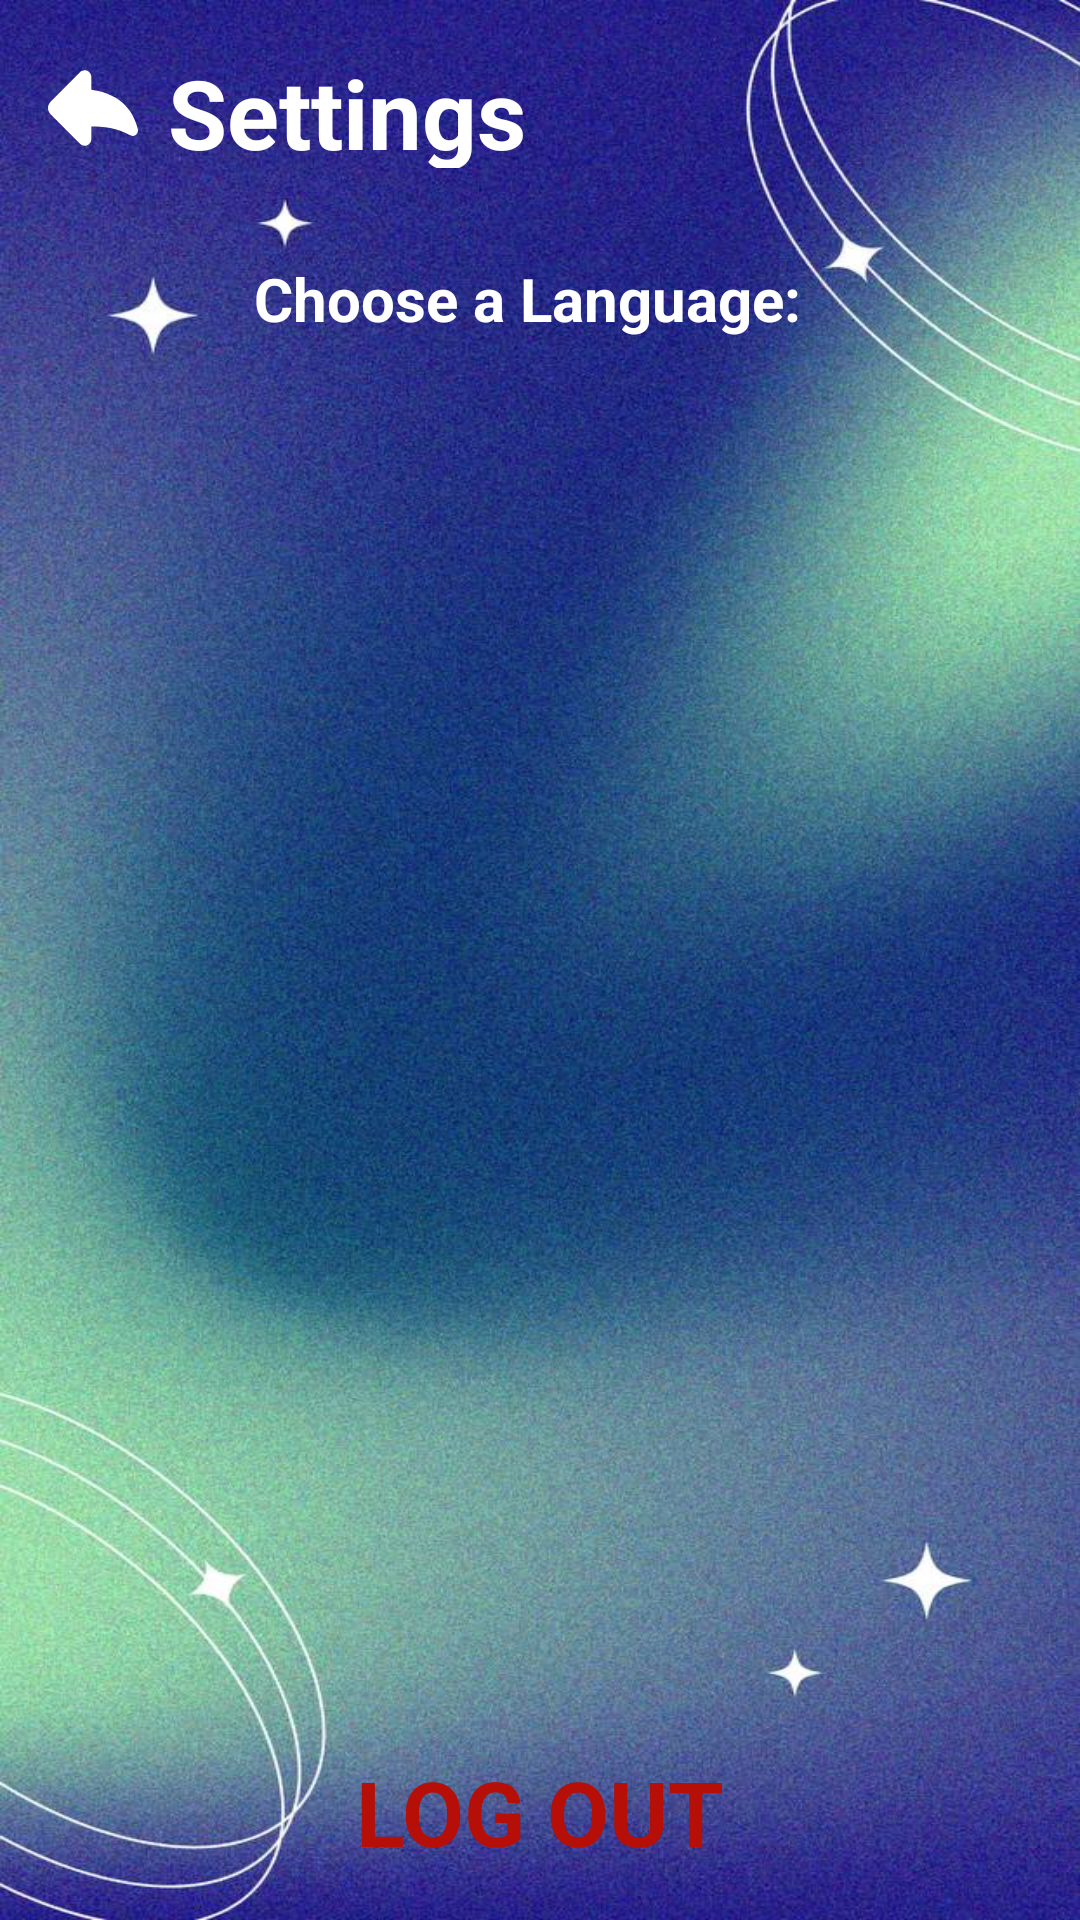

Screen size 1080 × 1920. Icon name, then its center in pixels as [x,y]:
Back: [93,108]
